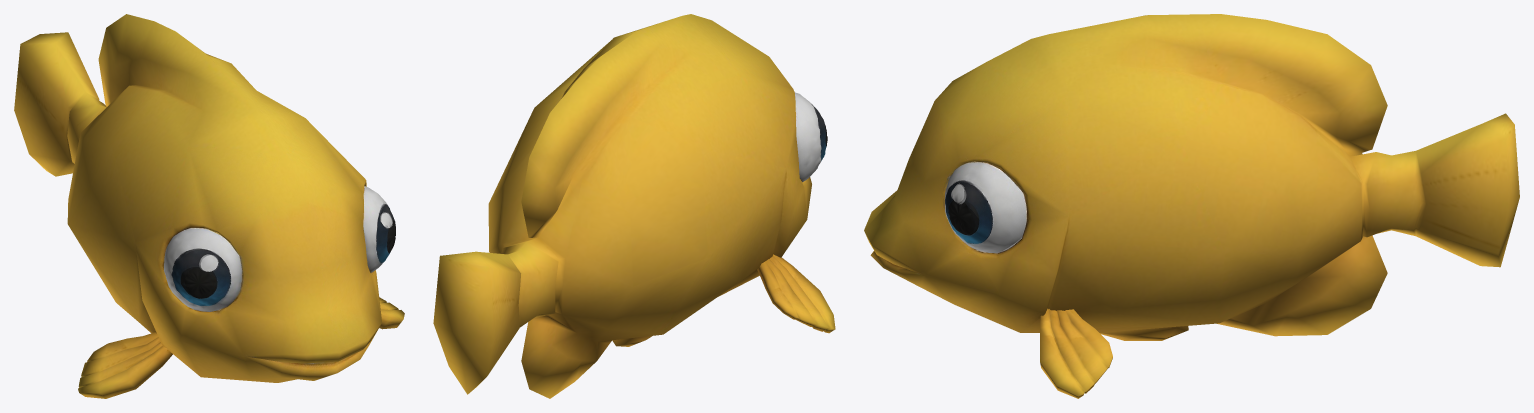
Rendered from yellow_tang_clean.glb.
3 renders of one model, left to right at view 1: azimuth 30°, elevation 25°; view 2: azimuth 150°, elevation 25°; view 3: azimuth 270°, elevation 25°, orthographic. The views are drawn at different scales.
Visible parts, largest first — view 1: tripo_node_6343730b-ccda-490b-9889-f04a5a24ab6a; view 2: tripo_node_6343730b-ccda-490b-9889-f04a5a24ab6a; view 3: tripo_node_6343730b-ccda-490b-9889-f04a5a24ab6a.
Part boxes in pixels (box(x1,y1,x2,y2)): tripo_node_6343730b-ccda-490b-9889-f04a5a24ab6a: box(14, 14, 404, 398); tripo_node_6343730b-ccda-490b-9889-f04a5a24ab6a: box(433, 14, 835, 398); tripo_node_6343730b-ccda-490b-9889-f04a5a24ab6a: box(864, 14, 1519, 398).
Size of the model in its own units: 0.62 by 0.55 by 1.
Materials: 1 (1 with a texture image).
